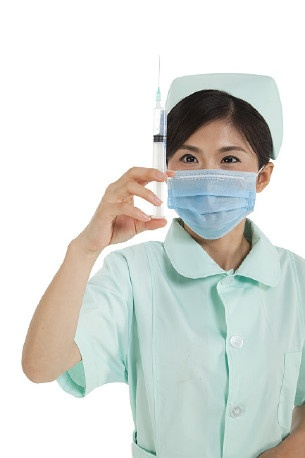Mask: (159, 133, 267, 240)
